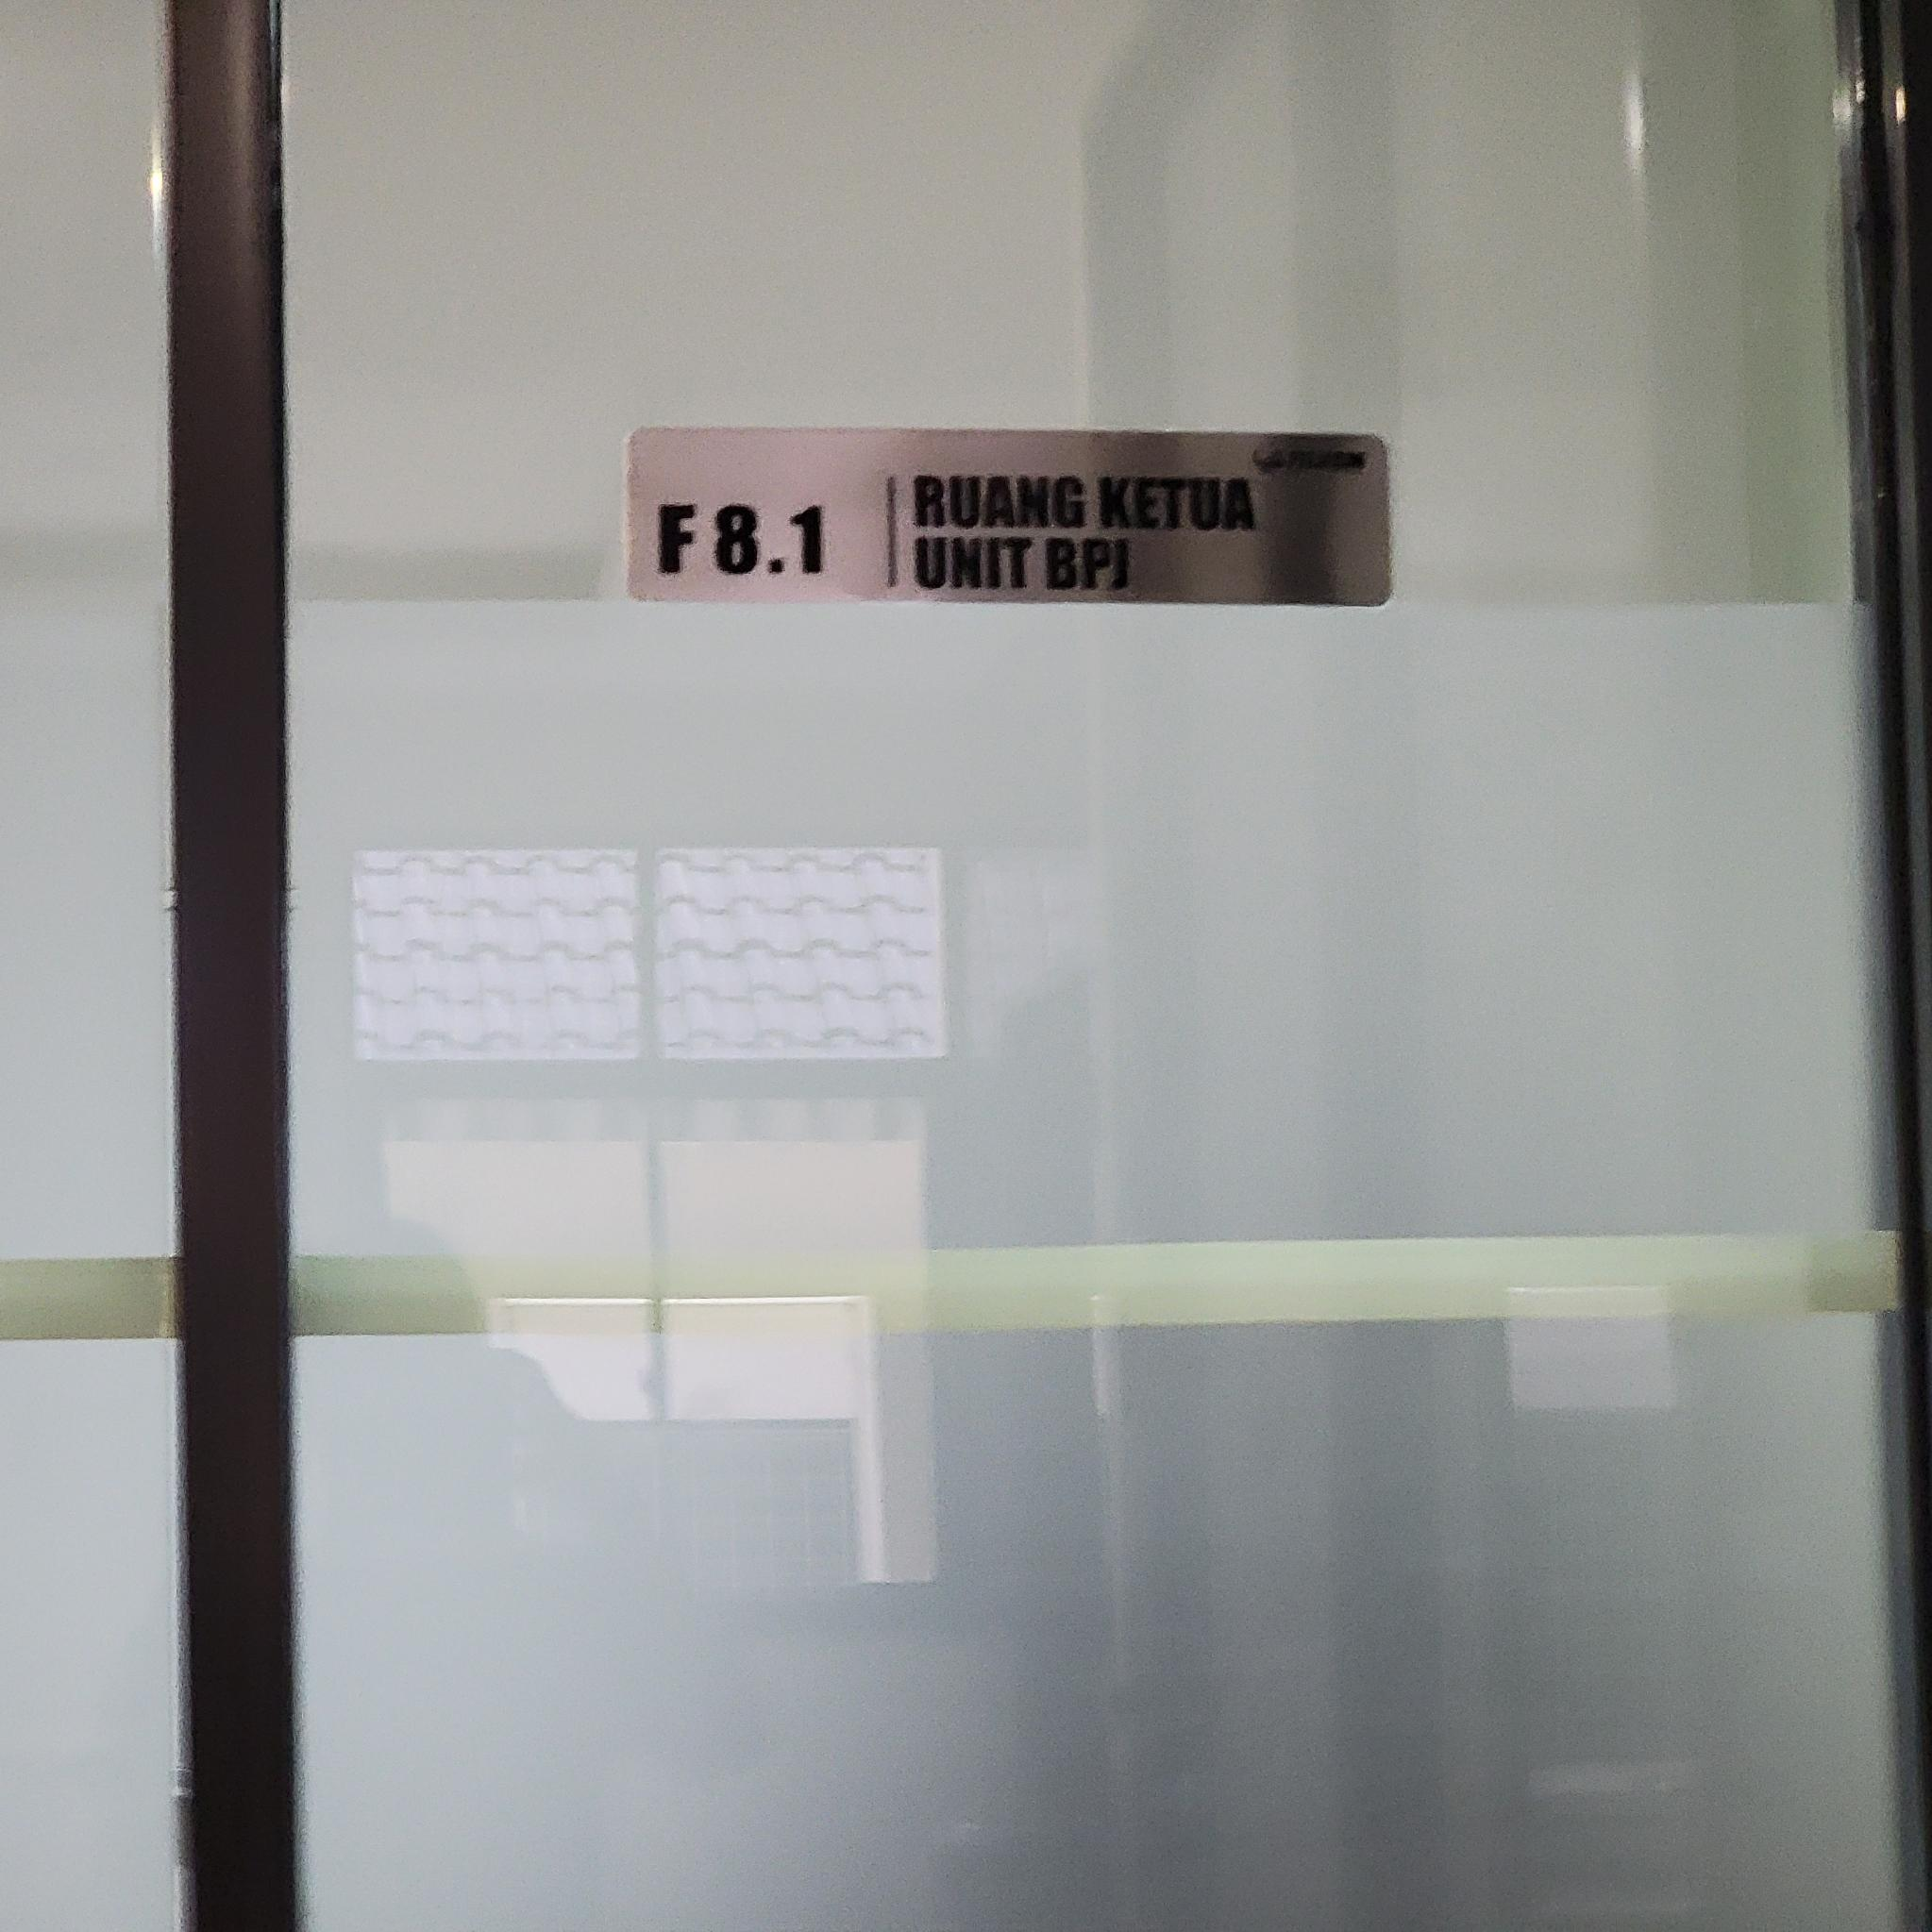plate: (616, 421, 1398, 614)
